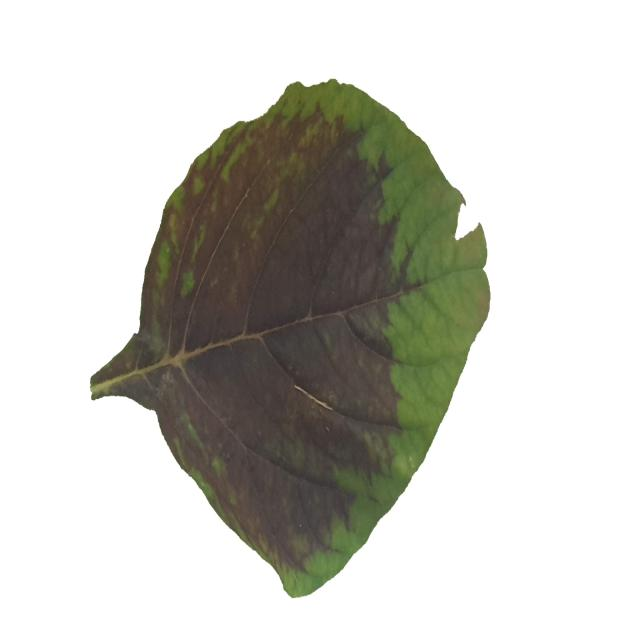Medicinal-Arive Dantu: (90, 80, 492, 596)
